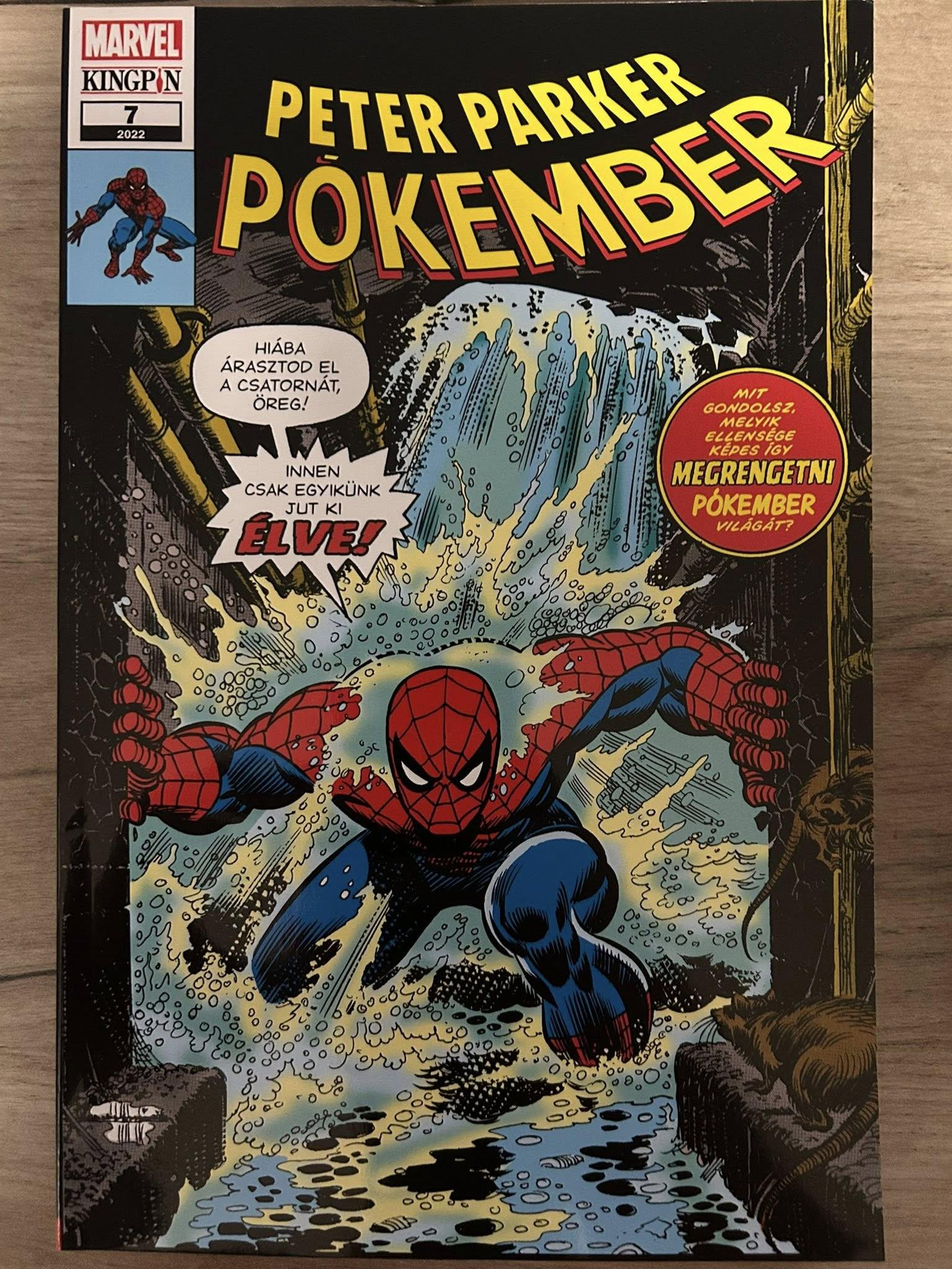comic: (54, 0, 881, 1263)
